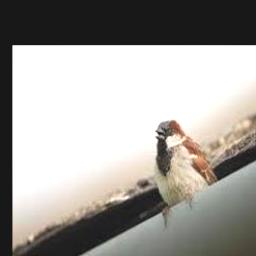Sparrow: (153, 120, 219, 223)
